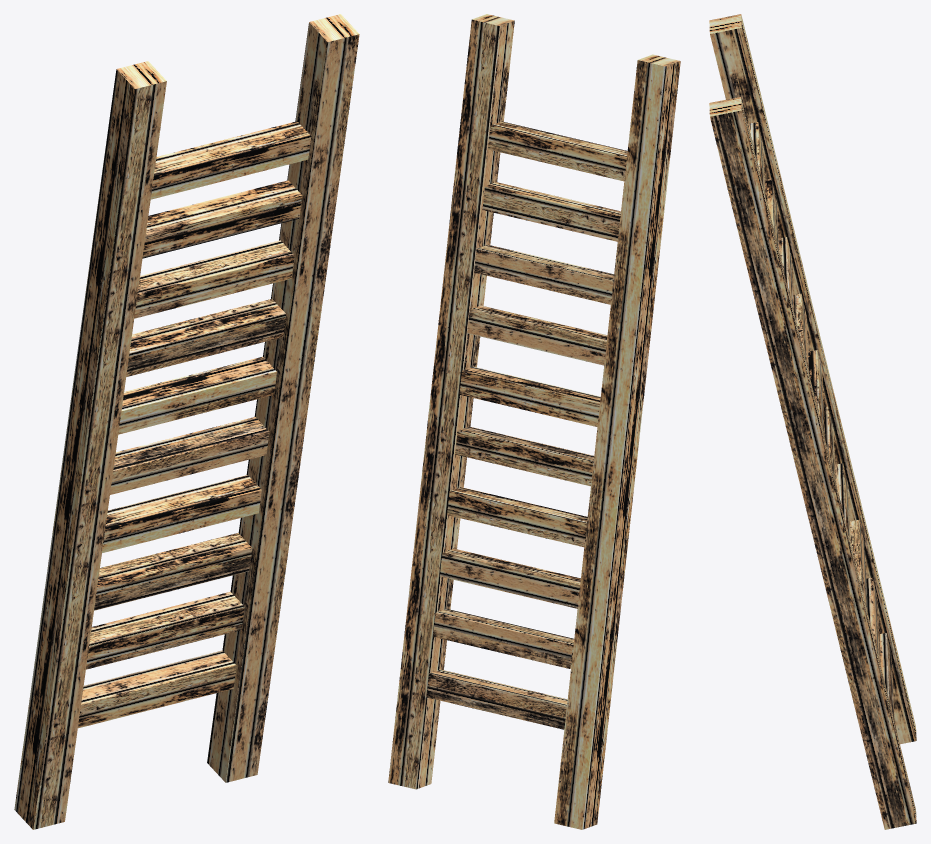
File: stair.fbx
3 renders of one model, left to right at view 1: azimuth 30°, elevation 25°; view 2: azimuth 150°, elevation 25°; view 3: azimuth 270°, elevation 25°, orthographic. The views are drawn at different scales.
Parts seen in each view (by area): view 1: polySurface688; view 2: polySurface688; view 3: polySurface688.
Boxes of the visible parts, x1,y1,x2,y2 form: polySurface688: (14,14,359,829); polySurface688: (388,14,680,829); polySurface688: (709,14,916,829).
Bounding box in the file's own units: 92.49 × 318 × 82.91.
